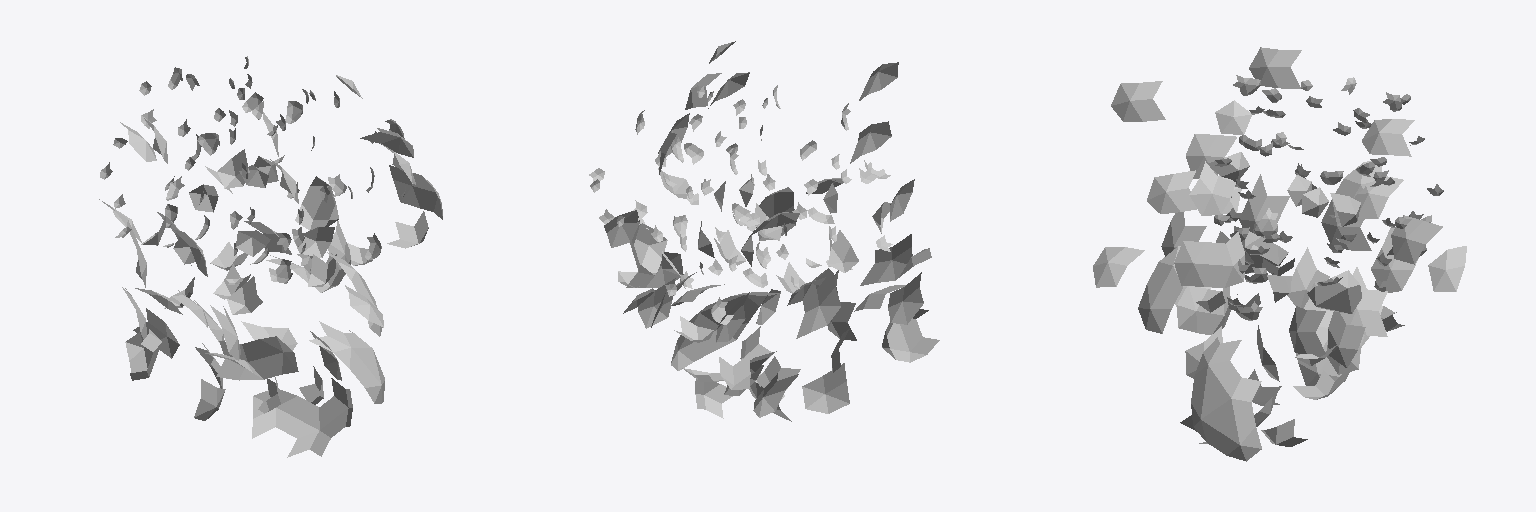
File: azuki_unarmed_exploding_000009.obj
3 views of the same model, side by side, from view 1: azimuth 30°, elevation 25°; view 2: azimuth 150°, elevation 25°; view 3: azimuth 270°, elevation 25° (orthographic).
Visible parts, largest first — view 1: Body_Icosphere.001, Leg.R_Icosphere.002, Leg.L_Icosphere.005, Eye.L_Icosphere.006, Eye.R_Icosphere.004; view 2: Body_Icosphere.001, Leg.L_Icosphere.005, Leg.R_Icosphere.002, Eye.R_Icosphere.004, Eye.L_Icosphere.006; view 3: Body_Icosphere.001, Leg.R_Icosphere.002, Eye.R_Icosphere.004, Leg.L_Icosphere.005, Eye.L_Icosphere.006.
Part boxes in pixels (x1,y1,x2,y2): Body_Icosphere.001: (99, 75, 442, 457); Leg.R_Icosphere.002: (189, 149, 428, 404); Leg.L_Icosphere.005: (125, 156, 345, 413); Eye.L_Icosphere.006: (100, 67, 329, 284); Eye.R_Icosphere.004: (191, 56, 405, 275); Body_Icosphere.001: (604, 41, 931, 421); Leg.L_Icosphere.005: (698, 180, 939, 389); Leg.R_Icosphere.002: (618, 168, 805, 418); Eye.R_Icosphere.004: (589, 85, 817, 296); Eye.L_Icosphere.006: (662, 85, 892, 324); Body_Icosphere.001: (1093, 47, 1466, 461); Leg.R_Icosphere.002: (1196, 175, 1396, 446); Eye.R_Icosphere.004: (1214, 96, 1431, 320); Leg.L_Icosphere.005: (1208, 152, 1404, 405); Eye.L_Icosphere.006: (1215, 75, 1443, 283).
Bounding box in the file's own units: 4.59 × 5.41 × 5.